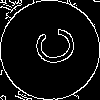C: (25, 25, 78, 71)
